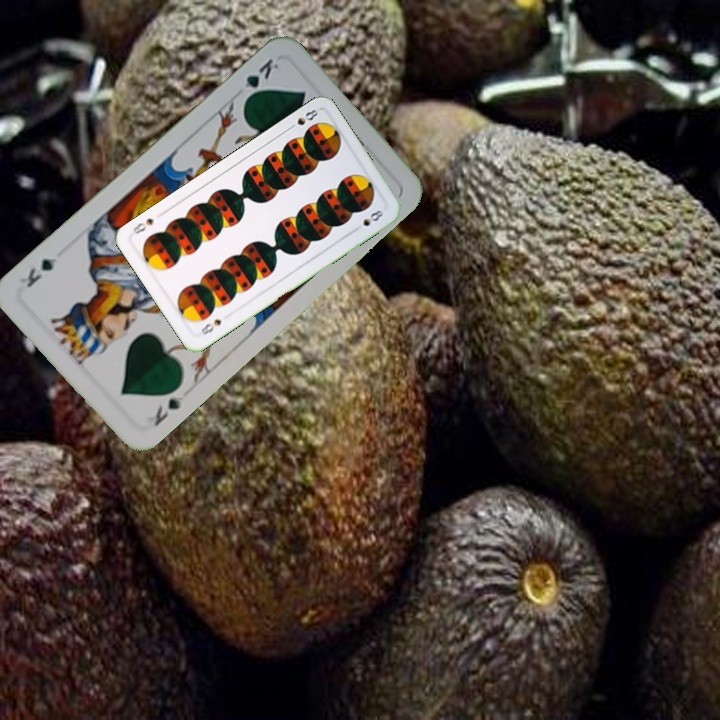GK: (238, 54, 282, 104), (149, 392, 186, 429)
S8: (284, 105, 321, 133), (197, 315, 224, 338)
